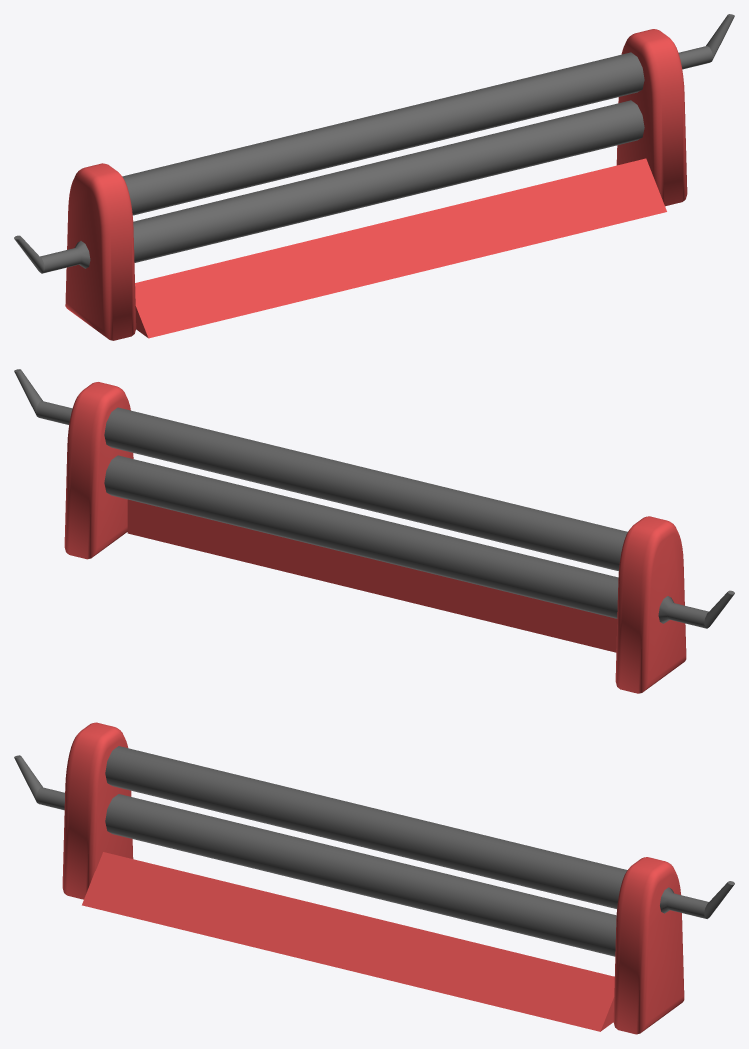
The model's file is tüy_makinesi.fbx.
The picture shows the model from 3 angles, top to bottom: view 1: azimuth 30°, elevation 25°; view 2: azimuth 150°, elevation 25°; view 3: azimuth 330°, elevation 25°; orthographic projection.
Visible parts, largest first — view 1: Rope Machine_1, Rope Machine_3, Rope Machine_2; view 2: Rope Machine_1, Rope Machine_3, Rope Machine_2; view 3: Rope Machine_1, Rope Machine_2, Rope Machine_3.
Part boxes in pixels (box(x1,y1,x2,y2)): Rope Machine_1: box(65, 29, 687, 340); Rope Machine_3: box(14, 100, 644, 273); Rope Machine_2: box(122, 14, 734, 215); Rope Machine_1: box(64, 382, 686, 693); Rope Machine_3: box(104, 455, 734, 628); Rope Machine_2: box(14, 369, 627, 571); Rope Machine_1: box(62, 722, 684, 1034); Rope Machine_2: box(105, 746, 734, 918); Rope Machine_3: box(14, 755, 616, 956).
Bounding box in the file's own units: 124 × 25.04 × 15.98.
